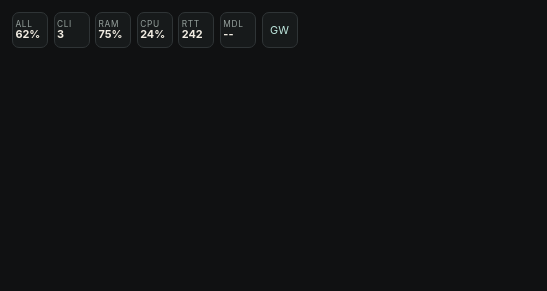
ToolbarMetrics › opens a live RTT details panel from the toolbar metric
This screenshot has width=547, height=291.
Hover over the button with aria-label "RTT 242 milliseconds, good": (196,30) [178,12,214,48]
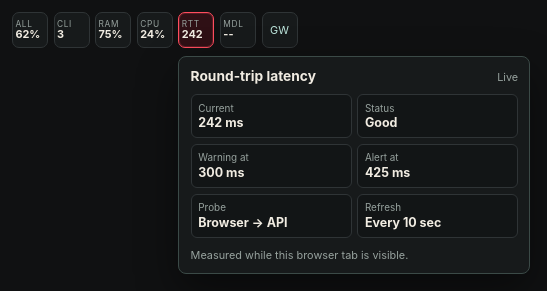
Result: the text "242 ms" is shown at [198,115,244,130]
Result: the text "Good" is shown at [365,115,397,130]
Result: the text "300 ms" is shown at [198,165,244,180]
